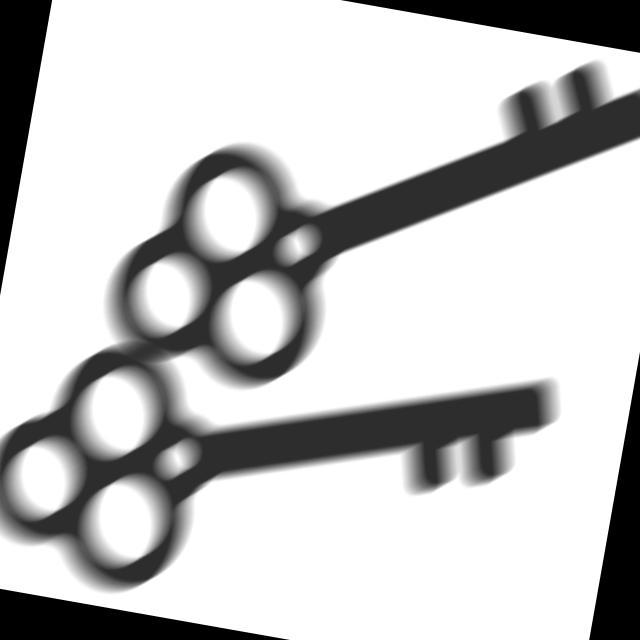key: (82, 1, 640, 476), (1, 274, 577, 640)
